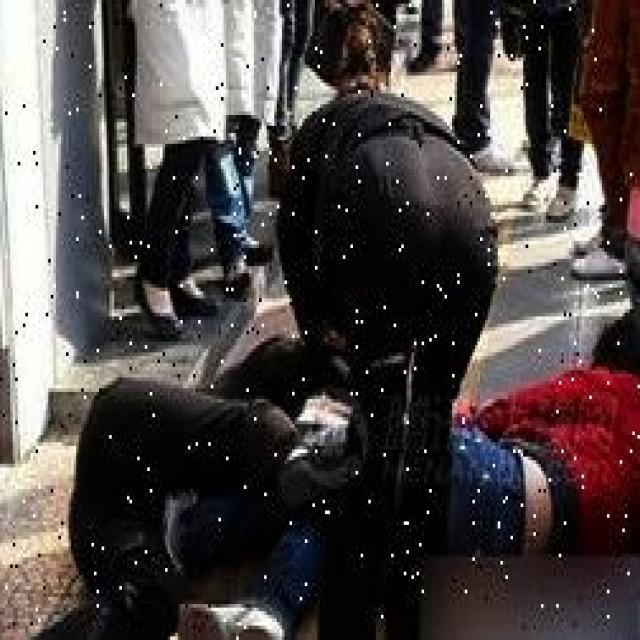fall: (185, 324, 638, 636)
